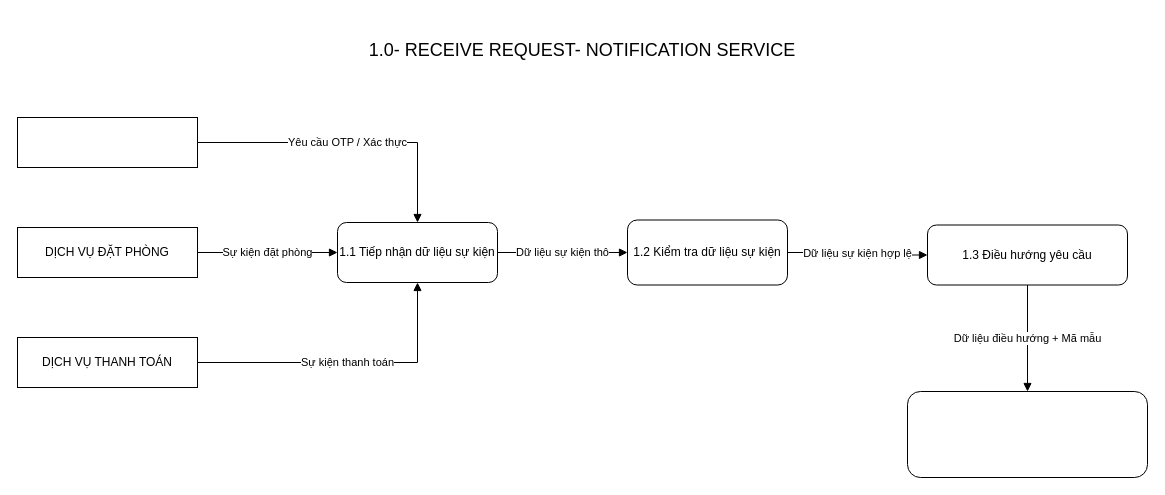
Image size: 1165x495. Some labels were removed from this diagram. The shapes that lost their labels are listed below. From the top down, each one's centre as x and y in pixels, then its label:
At [107,142]: "DỊCH VỤ NGƯỜI DÙNG".
At [1027,434]: "2.0 Xử lý mẫu & Nội dung".
